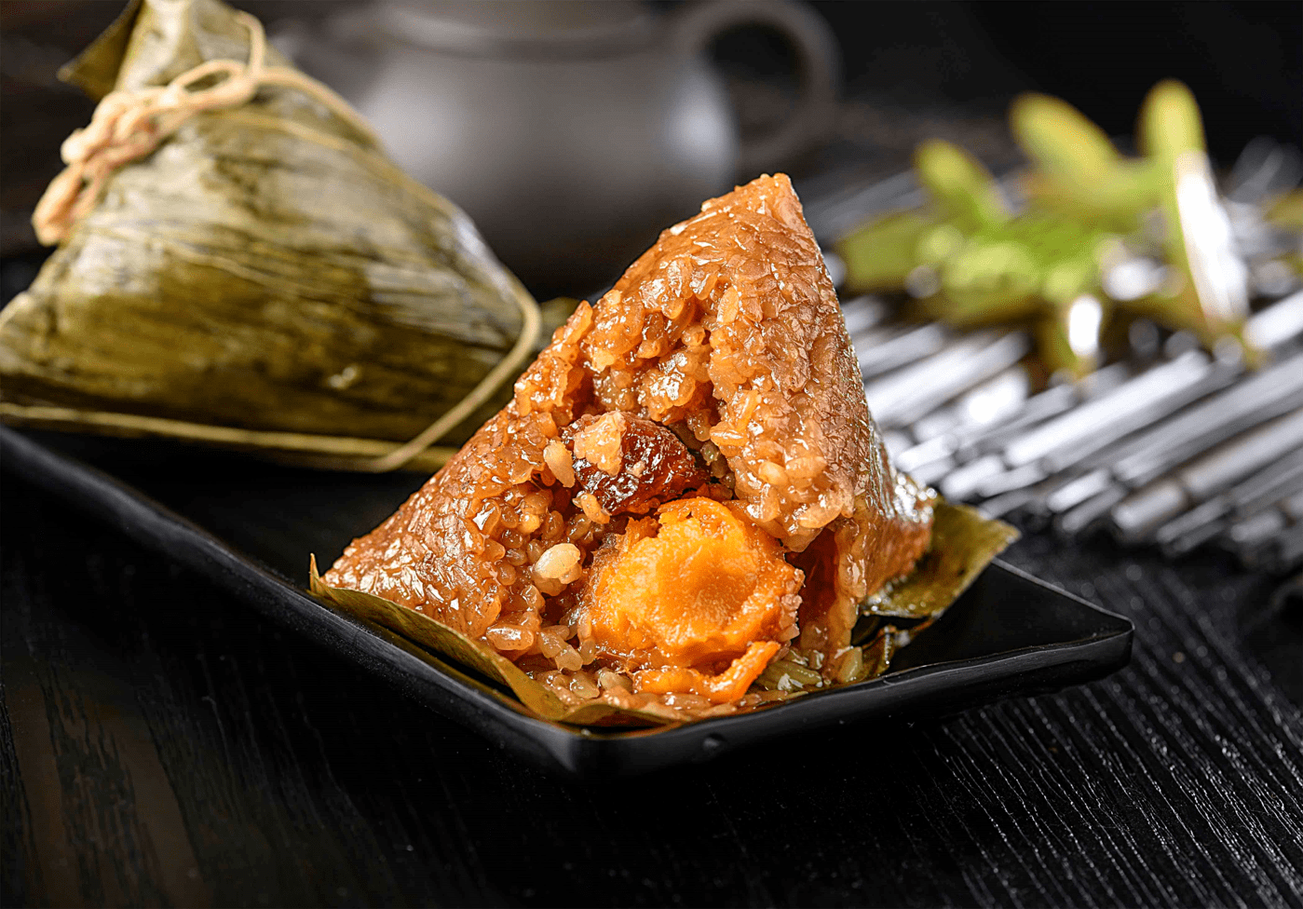zongzi: (323, 175, 934, 718), (0, 0, 540, 456)
